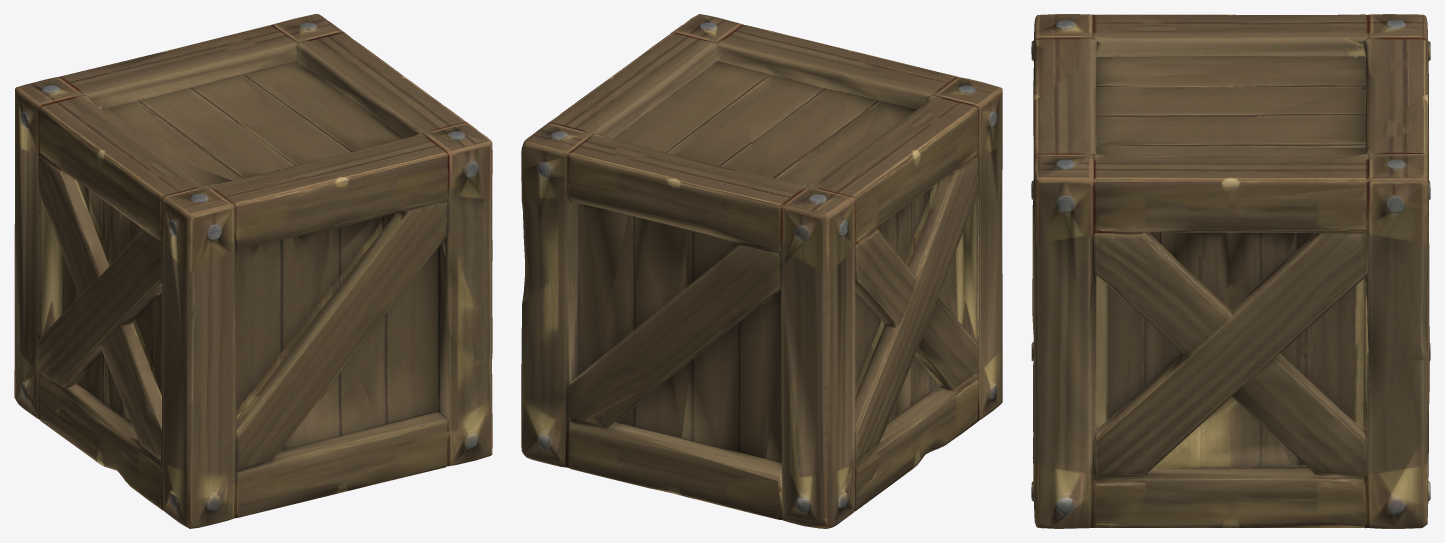
File: Meshy_AI_Rustic_Wooden_Crate_0514084847_texture.fbx
The picture shows the model from 3 angles, left to right: view 1: azimuth 30°, elevation 25°; view 2: azimuth 150°, elevation 25°; view 3: azimuth 270°, elevation 25°; orthographic projection. The views are drawn at different scales.
Parts seen in each view (by area): view 1: Mesh_0; view 2: Mesh_0; view 3: Mesh_0.
Part boxes in pixels (x1,y1,x2,y2): Mesh_0: (14,14,492,528); Mesh_0: (521,14,1002,528); Mesh_0: (1031,14,1430,528).
Size of the model in its own units: 190 by 186 by 189.
Materials: 1 (1 with a texture image).
